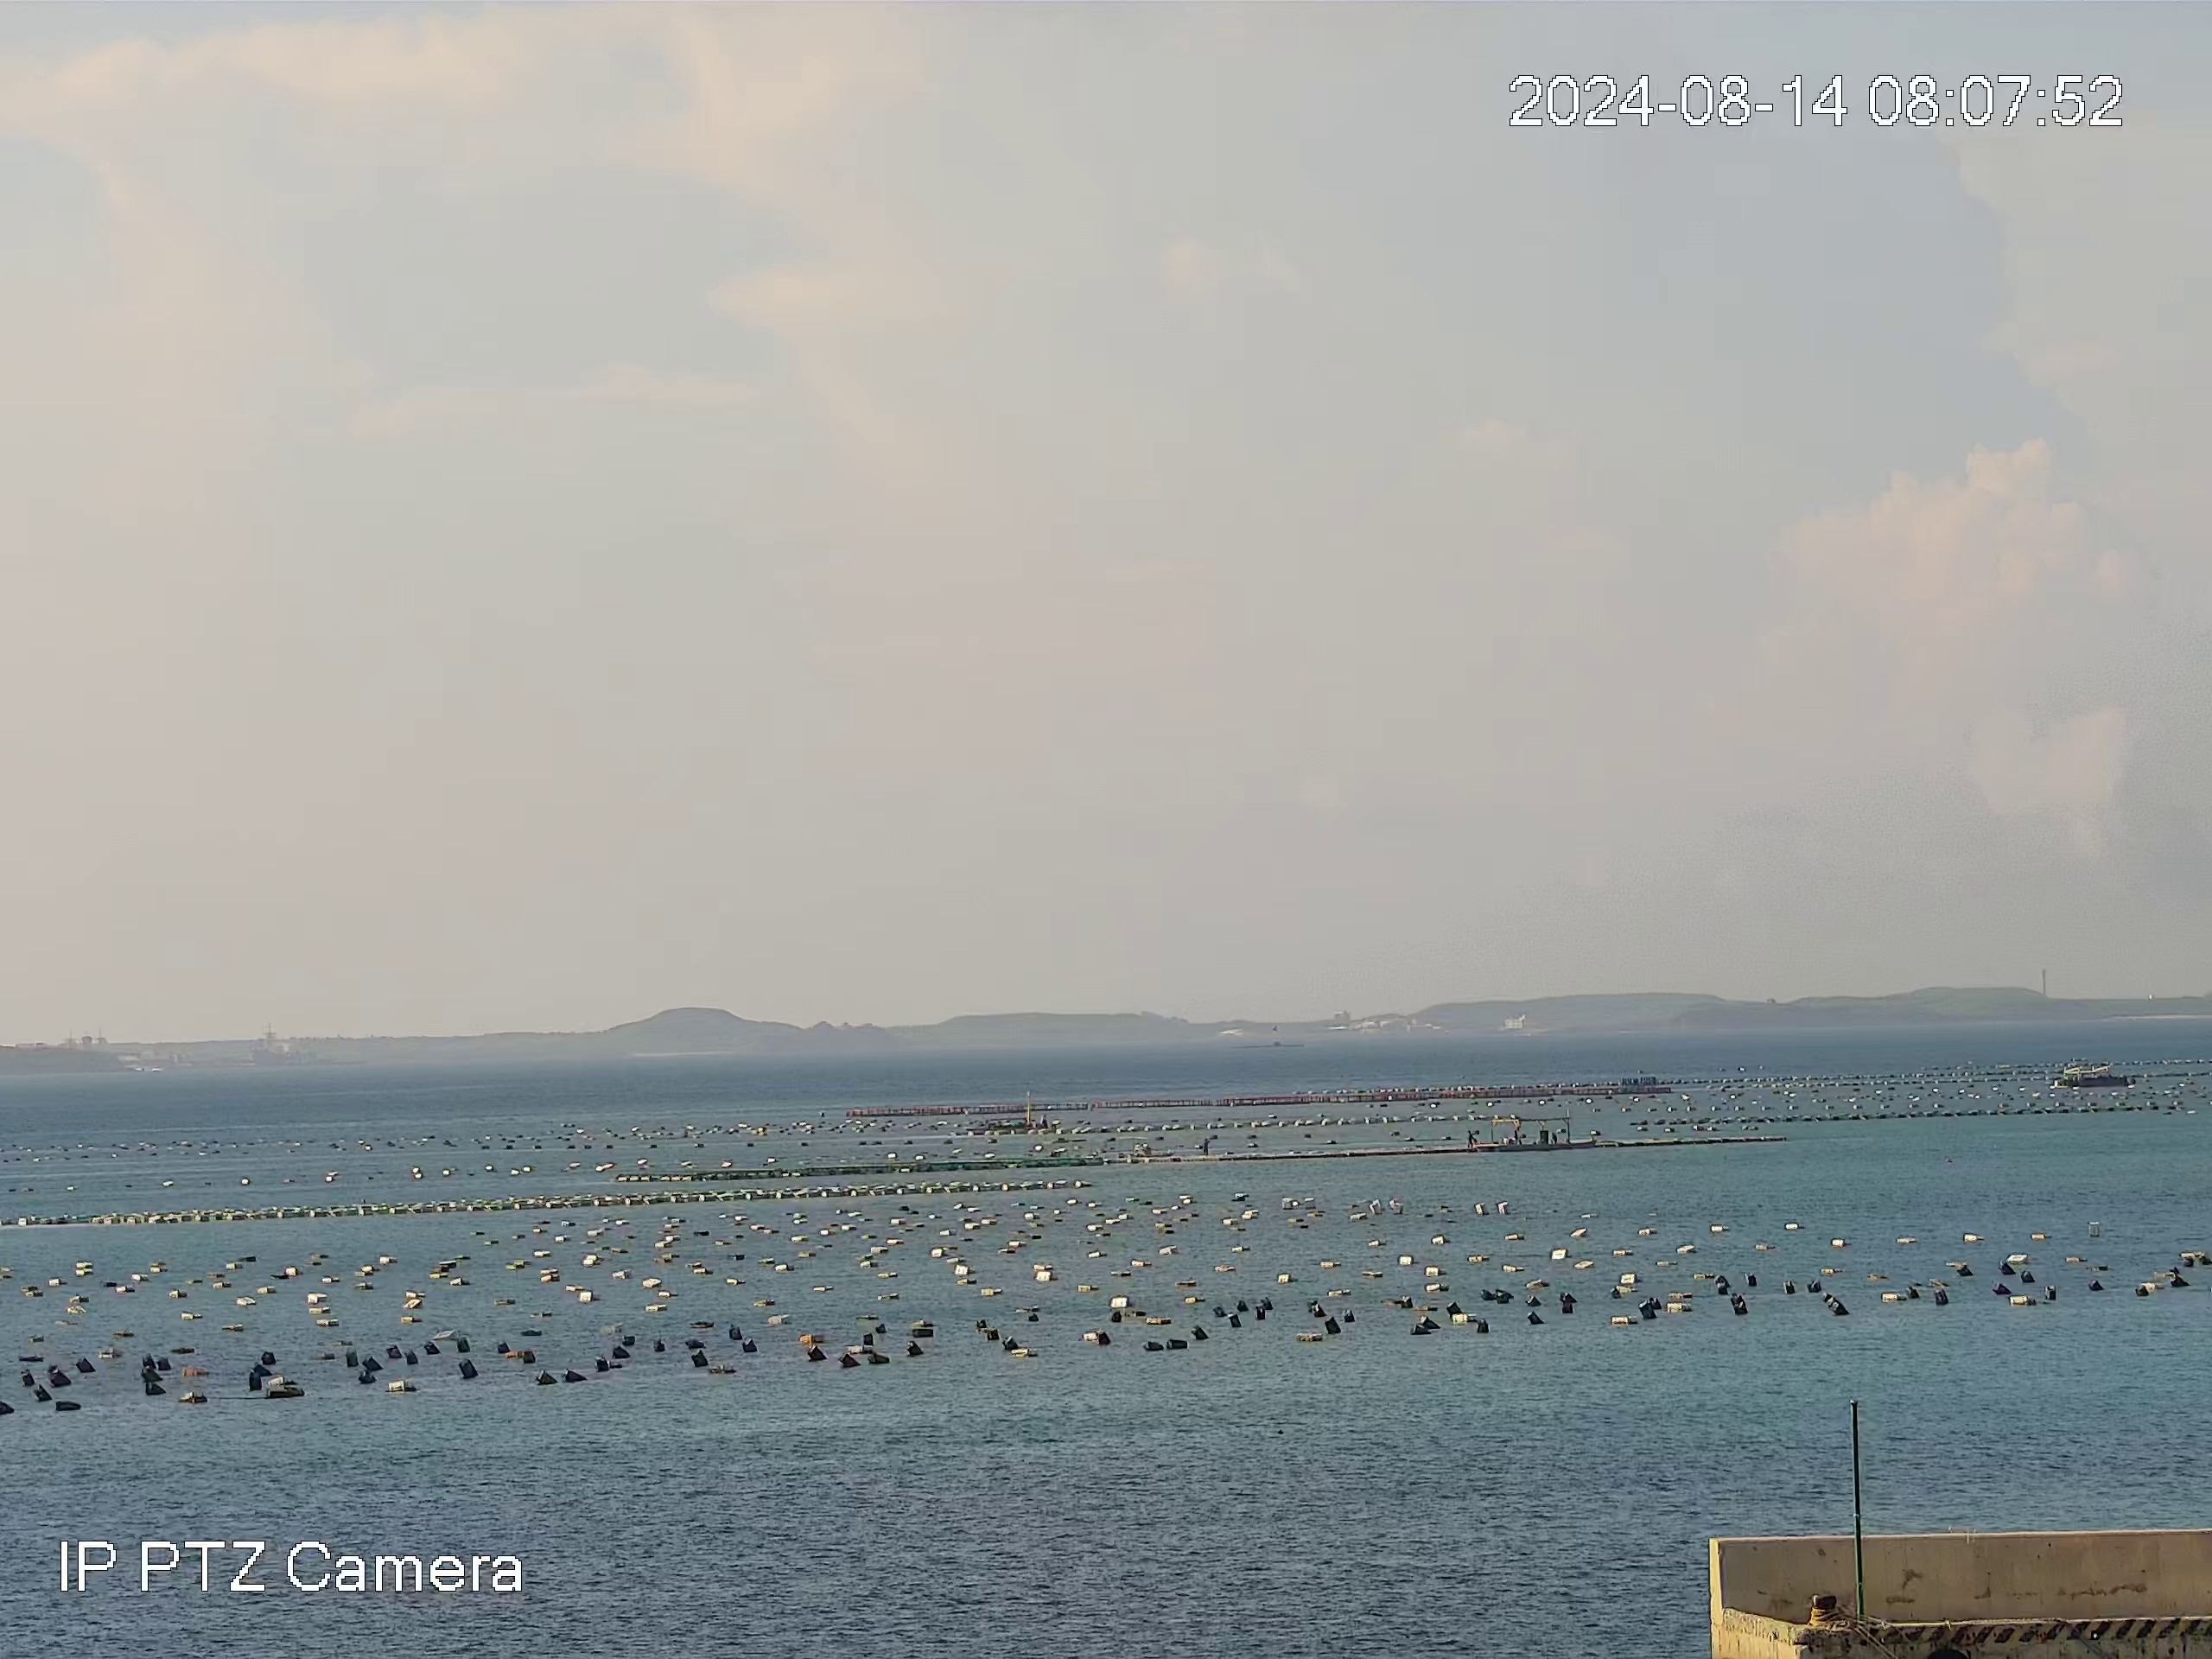boat: (1474, 1116, 1596, 1149), (2060, 1066, 2138, 1090)
